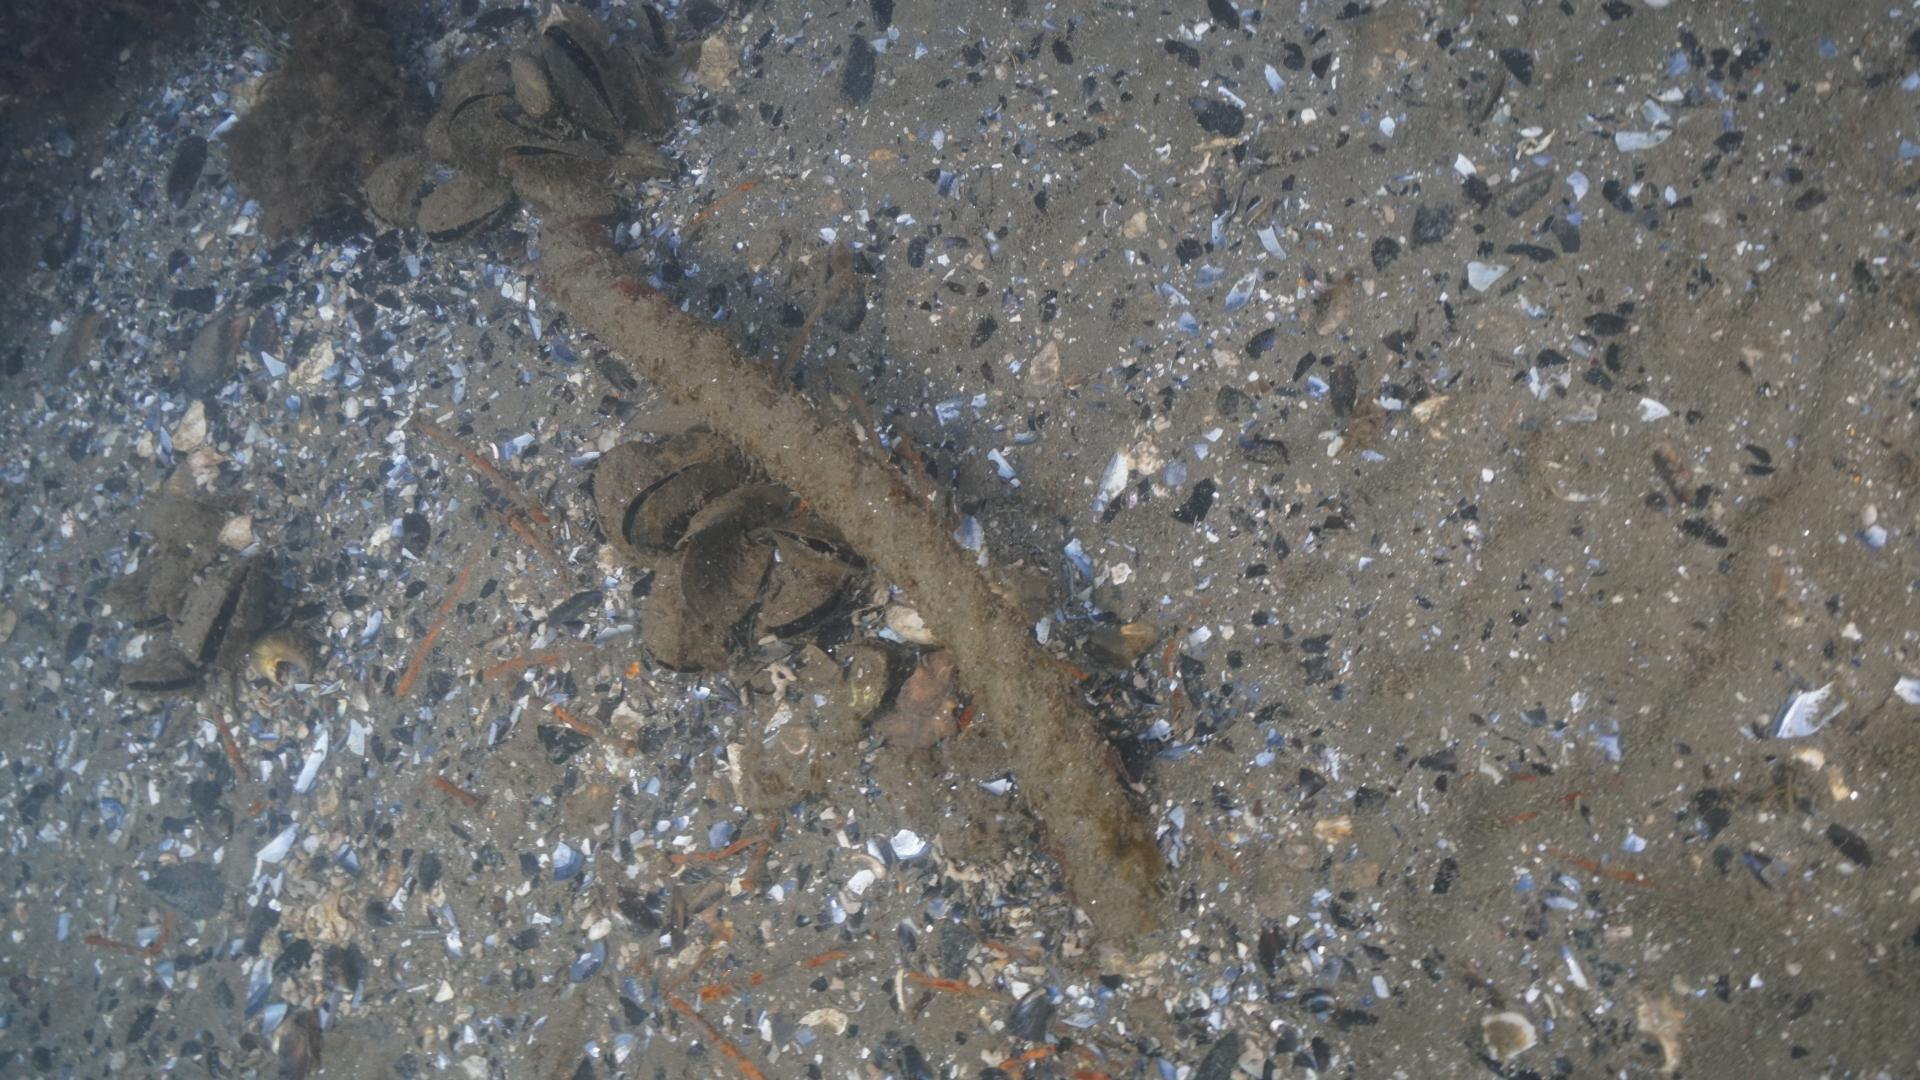rope: (529, 208, 1171, 938)
